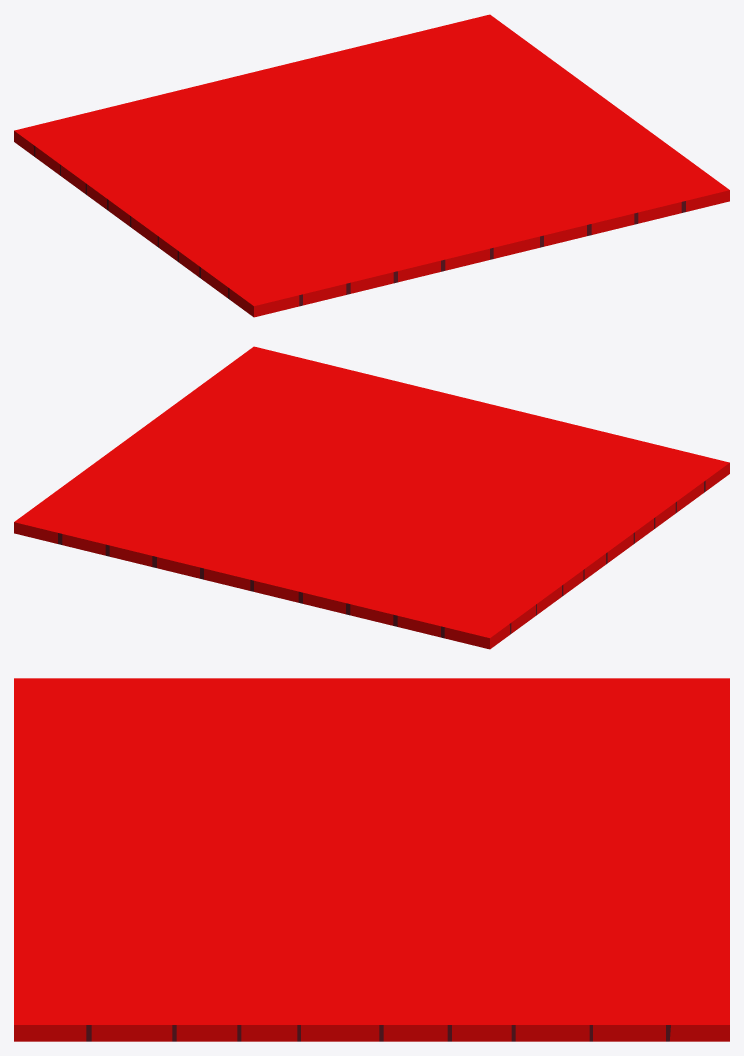
File: Ceiling 1.fbx
The picture shows the model from 3 angles, top to bottom: view 1: azimuth 30°, elevation 25°; view 2: azimuth 150°, elevation 25°; view 3: azimuth 270°, elevation 25°; orthographic projection. The views are drawn at different scales.
Visible parts, largest first — view 1: Ceiling.001; view 2: Ceiling.001; view 3: Ceiling.001.
Part boxes in pixels (bbox=[...]): Ceiling.001: bbox=[14, 14, 729, 317]; Ceiling.001: bbox=[14, 346, 729, 649]; Ceiling.001: bbox=[14, 678, 729, 1041].
Size of the model in its own units: 1343 by 30.4 by 1172.
